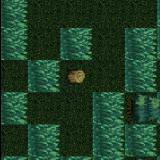Obstacle: (123, 93, 155, 124), (60, 61, 92, 92)
Slow: (92, 92, 123, 160), (124, 28, 156, 92), (0, 0, 28, 59), (28, 123, 60, 160), (27, 59, 60, 92), (124, 124, 156, 156), (60, 28, 91, 61), (0, 92, 28, 124)
